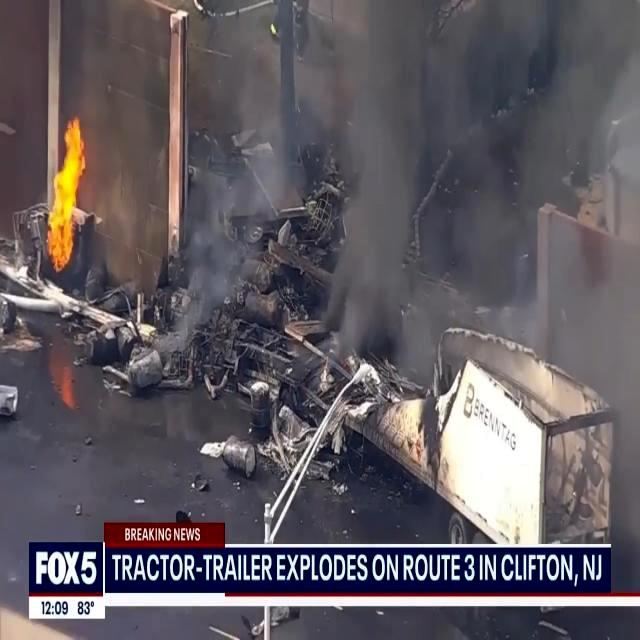fire: (46, 106, 90, 274)
